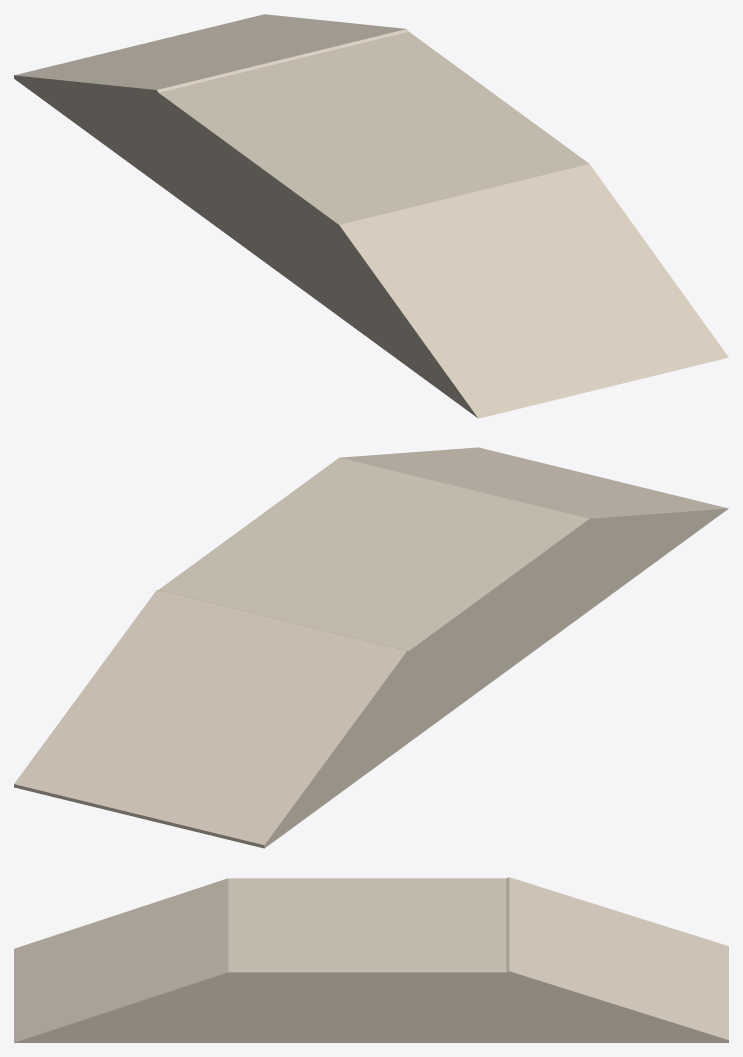
Rendered from ramp1.glb.
The picture shows the model from 3 angles, top to bottom: view 1: azimuth 30°, elevation 25°; view 2: azimuth 150°, elevation 25°; view 3: azimuth 270°, elevation 25°; orthographic projection. The views are drawn at different scales.
Parts seen in each view (by area): view 1: Cube; view 2: Cube; view 3: Cube.
Boxes of the visible parts, x1,y1,x2,y2 form: Cube: [14, 14, 728, 418]; Cube: [14, 447, 728, 848]; Cube: [14, 877, 728, 1042].
Size of the model in its own units: 2 by 0.7106 by 6.43.
